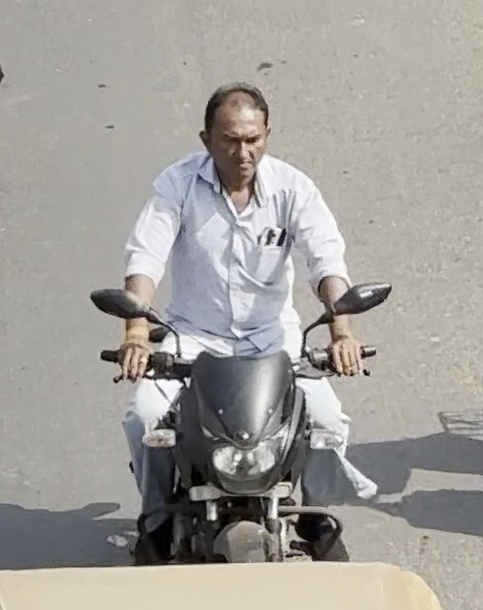BikeWithRider: (80, 72, 400, 575)
NoHelmet: (187, 74, 285, 186)
